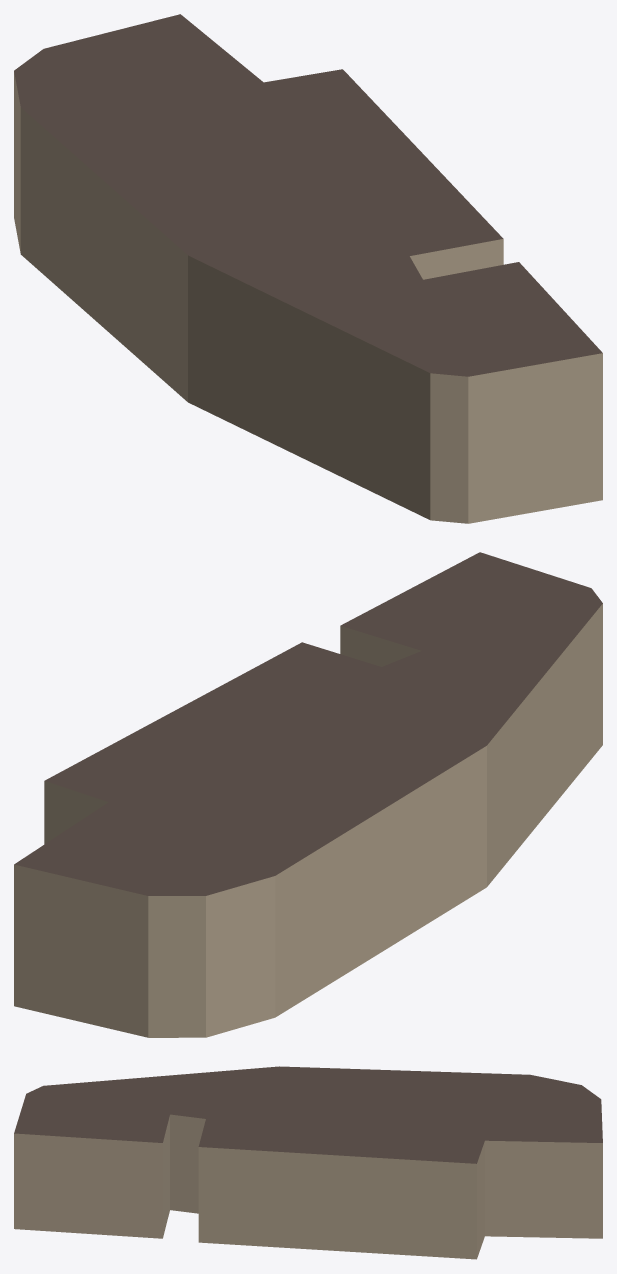
The picture shows the model from 3 angles, top to bottom: view 1: azimuth 30°, elevation 25°; view 2: azimuth 150°, elevation 25°; view 3: azimuth 270°, elevation 25°; orthographic projection. The views are drawn at different scales.
Visible parts, largest first — view 1: HP-w1515071103; view 2: HP-w1515071103; view 3: HP-w1515071103.
Boxes of the visible parts, box(x1,y1,x2,y2) form: HP-w1515071103: box(14, 14, 602, 523); HP-w1515071103: box(14, 552, 602, 1037); HP-w1515071103: box(14, 1066, 602, 1259).
Bounding box in the file's own units: 19.66 × 9 × 50.24.
